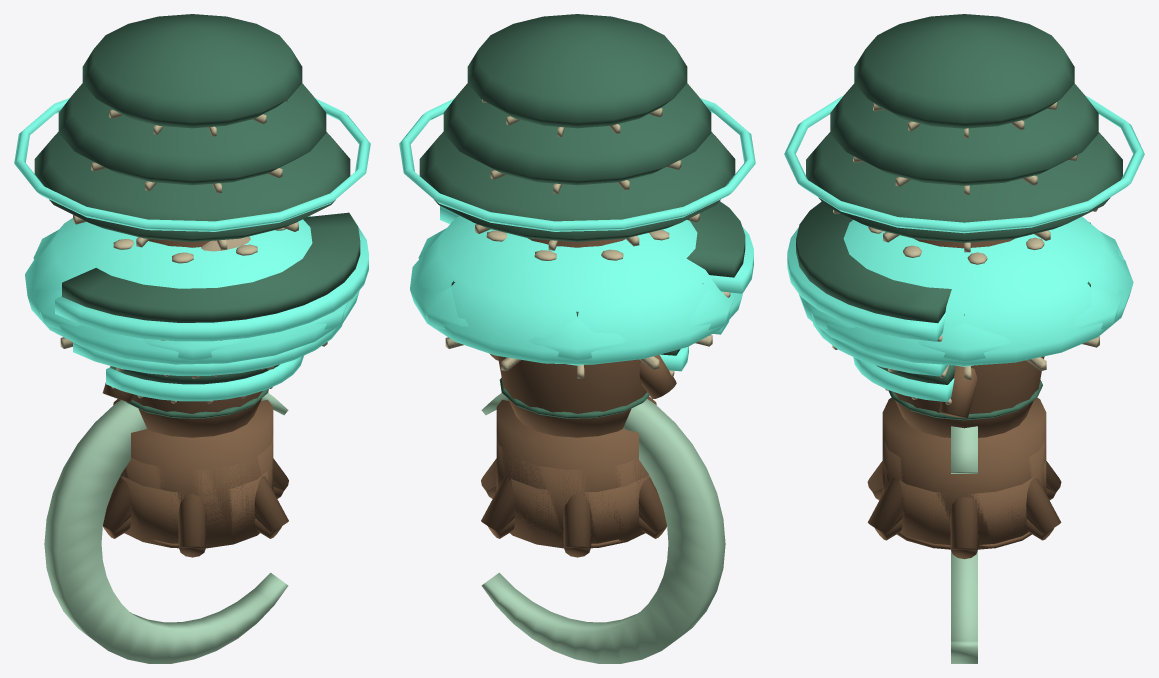
File: world12-memory-mushrooms.glb
The picture shows the model from 3 angles, left to right: view 1: azimuth 30°, elevation 25°; view 2: azimuth 150°, elevation 25°; view 3: azimuth 270°, elevation 25°; orthographic projection.
Parts seen in each view (by area): view 1: W12_Ancient_Friendly_Tree_Mushroom-forest-green, W12_Shrine_Small_Crescent-moon-mint, W12_Memory_Spotted_Dome-memory-signal, W12_Ancient_Friendly_Tree_Mushroom-root-wood, W12_Memory_Tiered_Fan-forest-green, W12_Memory_Tiered_Fan-memory-signal, W12_Ancient_Friendly_Tree_Mushroom-memory-signal, W12_Memory_Spotted_Dome-root-wood, W12_Memory_Tiered_Fan-root-wood, W12_Memory_Leaf_Crown-memory-signal, W12_Ancient_Friendly_Tree_Mushroom-gill-cream, W12_Memory_Leaf_Crown-root-wood (+1 smaller); view 2: W12_Ancient_Friendly_Tree_Mushroom-forest-green, W12_Memory_Spotted_Dome-memory-signal, W12_Ancient_Friendly_Tree_Mushroom-root-wood, W12_Shrine_Small_Crescent-moon-mint, W12_Ancient_Friendly_Tree_Mushroom-memory-signal, W12_Memory_Tiered_Fan-root-wood, W12_Memory_Leaf_Crown-memory-signal, W12_Memory_Spotted_Dome-root-wood, W12_Memory_Tiered_Fan-forest-green, W12_Memory_Tiered_Fan-memory-signal, W12_Memory_Spotted_Dome-gill-cream, W12_Ancient_Friendly_Tree_Mushroom-gill-cream (+1 smaller); view 3: W12_Ancient_Friendly_Tree_Mushroom-forest-green, W12_Memory_Spotted_Dome-memory-signal, W12_Ancient_Friendly_Tree_Mushroom-root-wood, W12_Memory_Tiered_Fan-forest-green, W12_Memory_Tiered_Fan-memory-signal, W12_Ancient_Friendly_Tree_Mushroom-memory-signal, W12_Memory_Tiered_Fan-root-wood, W12_Shrine_Small_Crescent-moon-mint, W12_Memory_Leaf_Crown-memory-signal, W12_Memory_Spotted_Dome-root-wood, W12_Memory_Leaf_Crown-root-wood, W12_Ancient_Friendly_Tree_Mushroom-gill-cream (+1 smaller).
Part boxes in pixels (x1,y1,x2,y2): W12_Ancient_Friendly_Tree_Mushroom-forest-green: [34, 14, 350, 418]; W12_Shrine_Small_Crescent-moon-mint: [44, 393, 288, 663]; W12_Memory_Spotted_Dome-memory-signal: [25, 216, 359, 364]; W12_Ancient_Friendly_Tree_Mushroom-root-wood: [102, 239, 288, 547]; W12_Memory_Tiered_Fan-forest-green: [62, 212, 360, 384]; W12_Memory_Tiered_Fan-memory-signal: [55, 227, 368, 401]; W12_Ancient_Friendly_Tree_Mushroom-memory-signal: [14, 98, 370, 231]; W12_Memory_Spotted_Dome-root-wood: [115, 433, 282, 548]; W12_Memory_Tiered_Fan-root-wood: [115, 470, 283, 547]; W12_Memory_Leaf_Crown-memory-signal: [33, 230, 348, 361]; W12_Ancient_Friendly_Tree_Mushroom-gill-cream: [73, 99, 298, 250]; W12_Memory_Leaf_Crown-root-wood: [103, 486, 283, 557]; W12_Ancient_Friendly_Tree_Mushroom-forest-green: [419, 14, 735, 418]; W12_Memory_Spotted_Dome-memory-signal: [410, 216, 742, 364]; W12_Ancient_Friendly_Tree_Mushroom-root-wood: [481, 238, 676, 547]; W12_Shrine_Small_Crescent-moon-mint: [481, 393, 725, 663]; W12_Ancient_Friendly_Tree_Mushroom-memory-signal: [399, 98, 755, 231]; W12_Memory_Tiered_Fan-root-wood: [486, 475, 654, 548]; W12_Memory_Leaf_Crown-memory-signal: [418, 228, 736, 365]; W12_Memory_Spotted_Dome-root-wood: [487, 433, 654, 548]; W12_Memory_Tiered_Fan-forest-green: [660, 201, 745, 355]; W12_Memory_Tiered_Fan-memory-signal: [440, 206, 753, 371]; W12_Memory_Spotted_Dome-gill-cream: [445, 230, 712, 378]; W12_Ancient_Friendly_Tree_Mushroom-gill-cream: [475, 99, 699, 250]; W12_Ancient_Friendly_Tree_Mushroom-forest-green: [806, 14, 1122, 420]; W12_Memory_Spotted_Dome-memory-signal: [799, 216, 1133, 365]; W12_Ancient_Friendly_Tree_Mushroom-root-wood: [867, 238, 1061, 549]; W12_Memory_Tiered_Fan-forest-green: [796, 201, 955, 384]; W12_Memory_Tiered_Fan-memory-signal: [787, 227, 954, 402]; W12_Ancient_Friendly_Tree_Mushroom-memory-signal: [784, 96, 1144, 233]; W12_Memory_Tiered_Fan-root-wood: [873, 460, 1055, 549]; W12_Shrine_Small_Crescent-moon-mint: [951, 426, 977, 663]; W12_Memory_Leaf_Crown-memory-signal: [808, 230, 1123, 366]; W12_Memory_Spotted_Dome-root-wood: [873, 439, 1055, 549]; W12_Memory_Leaf_Crown-root-wood: [873, 488, 1055, 559]; W12_Ancient_Friendly_Tree_Mushroom-gill-cream: [833, 102, 1097, 252].
Size of the model in its own units: 2.65 by 5.01 by 2.65.
